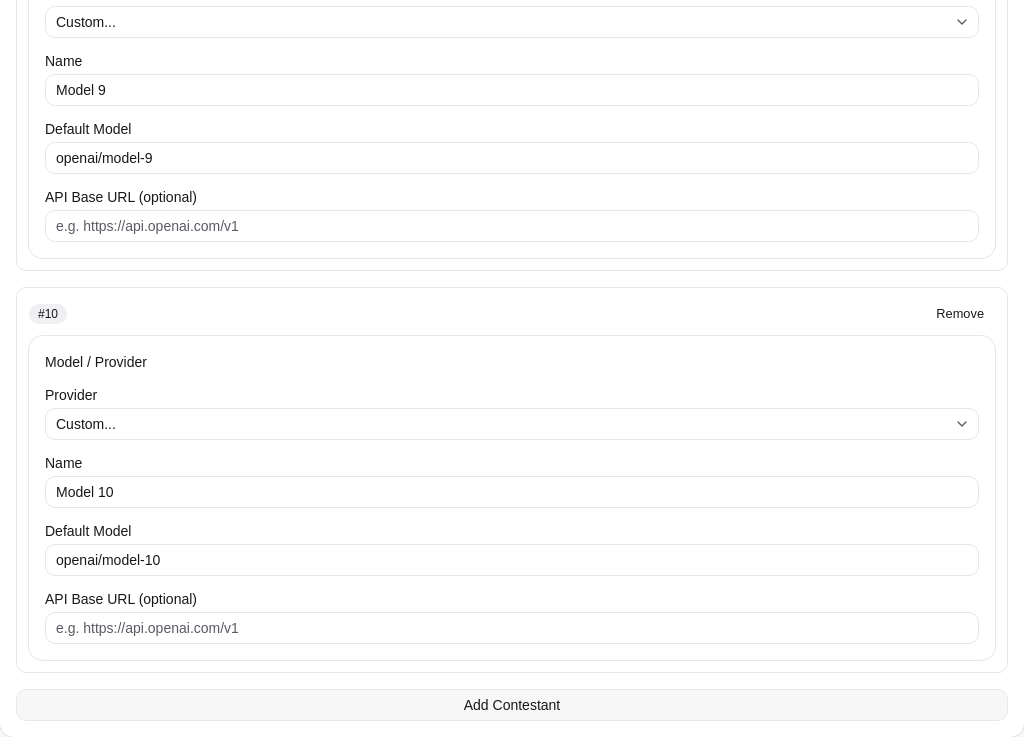
it: ContestantSelector › shows no warning at 10 contestants but shows warning at 11
(page scrolled)
Expected: the text "more than 10 contestants" is not shown
Click the button "Add Contestant" at (512, 705), box [16,689,1008,721]
(page scrolled)
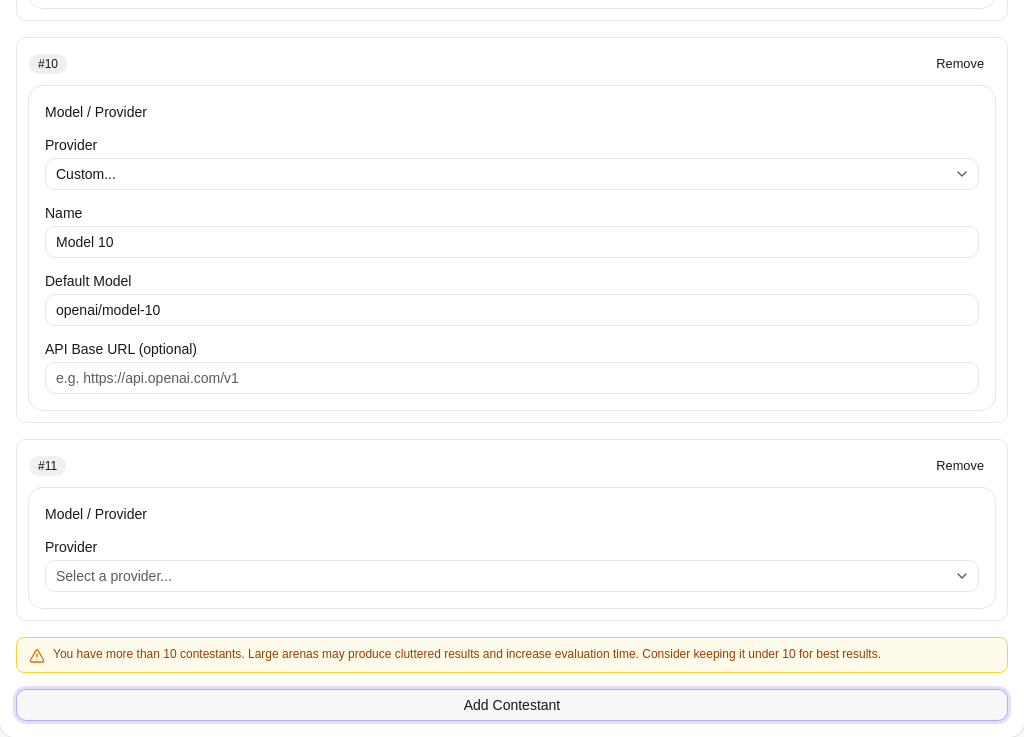
Expected: the icon "#11" is shown, [29,456,66,476]
Expected: the text "more than 10 contestants" is shown, [53,647,881,661]
